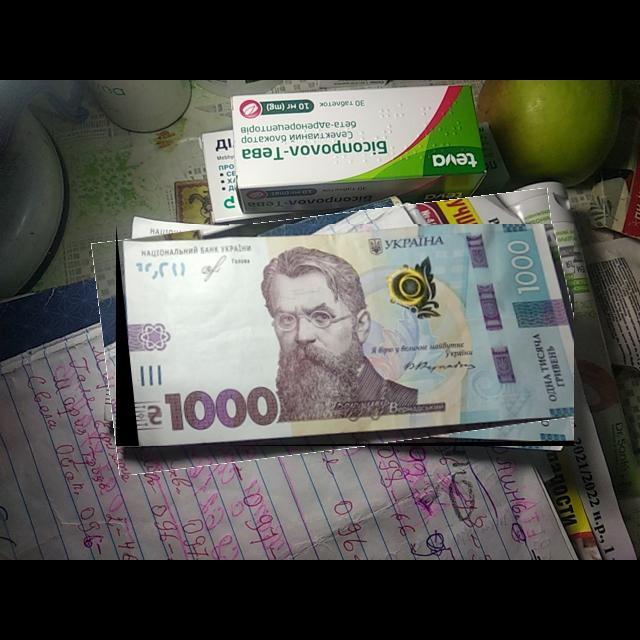1000uah: (121, 224, 575, 447)
